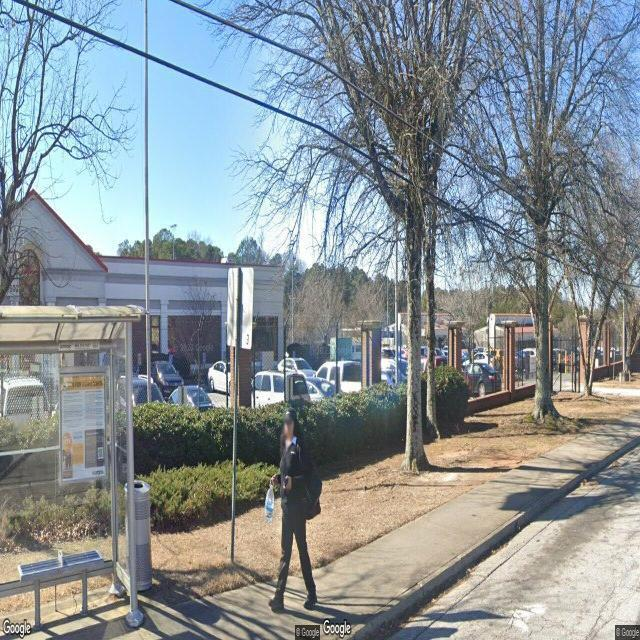seating: (18, 547, 104, 631)
shelter: (0, 305, 150, 640)
trash_can: (124, 478, 152, 592)
